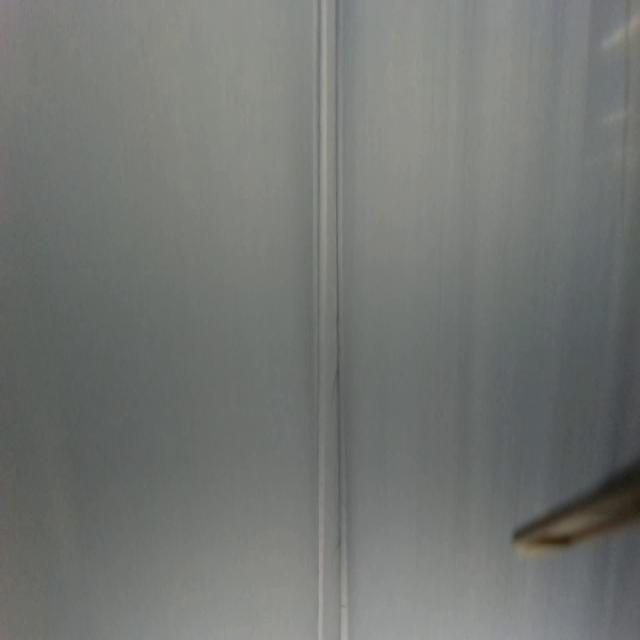crease: (334, 0, 349, 640), (313, 0, 327, 635)
